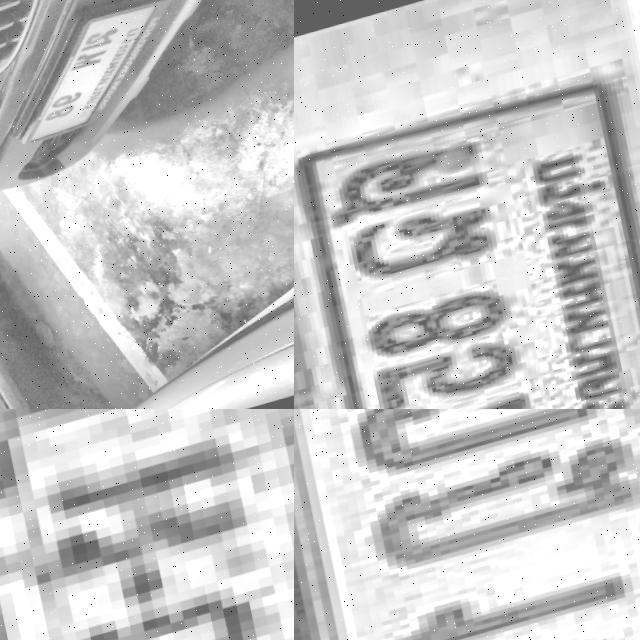license-plate: (294, 69, 640, 409), (294, 409, 640, 640), (0, 409, 294, 640), (0, 0, 195, 153)
